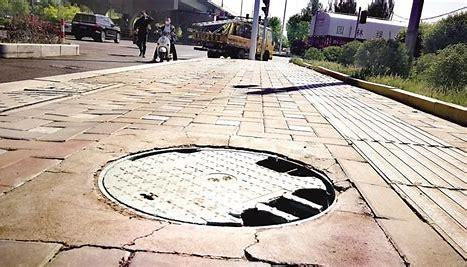wellcover: (100, 138, 338, 237)
